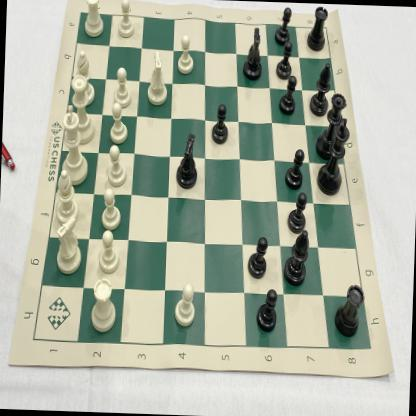bishop: (334, 284, 366, 337), (54, 170, 80, 227), (284, 230, 310, 286), (74, 50, 97, 106), (309, 62, 330, 118), (307, 5, 329, 50)
king: (317, 116, 350, 198), (60, 104, 90, 188)
knight: (53, 216, 84, 274), (176, 133, 200, 190), (147, 49, 170, 106), (242, 25, 264, 82)
pawn: (97, 189, 123, 233), (96, 231, 122, 275), (103, 145, 129, 188), (174, 285, 197, 331), (247, 234, 270, 280), (256, 288, 279, 333), (284, 146, 306, 192), (286, 192, 308, 235), (112, 66, 133, 109), (108, 104, 130, 144), (210, 102, 230, 144), (117, 0, 137, 41), (279, 74, 298, 116), (177, 34, 196, 76), (276, 41, 294, 81), (274, 6, 292, 45)
queen: (316, 93, 348, 162), (69, 73, 98, 146)
rook: (90, 278, 117, 334), (83, 0, 105, 38)
